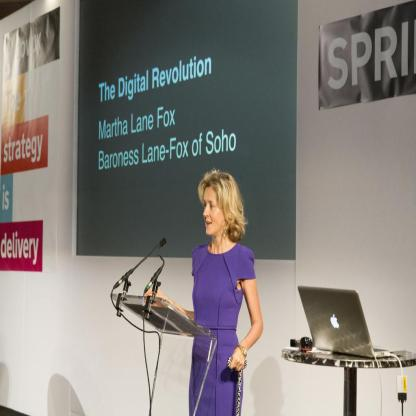board: (297, 286, 394, 357)
